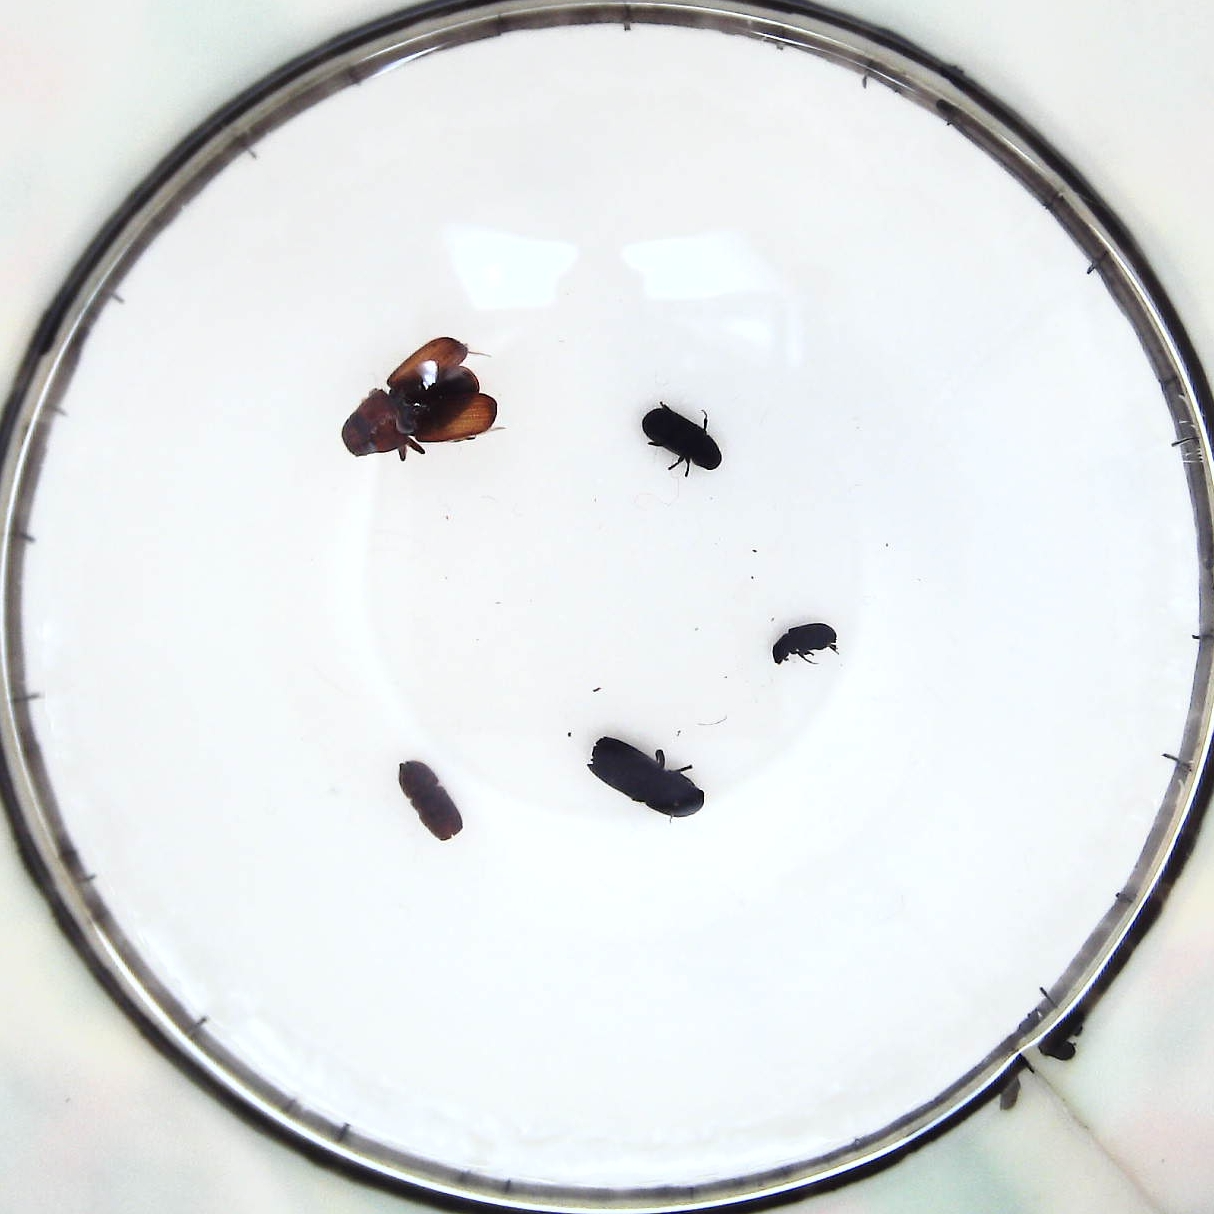Boerner: (594, 727, 714, 820)
Leconte: (350, 334, 497, 461)
Linnaeus: (397, 754, 465, 849)
armandi: (643, 400, 724, 476)
coleoptera: (767, 620, 840, 671)
